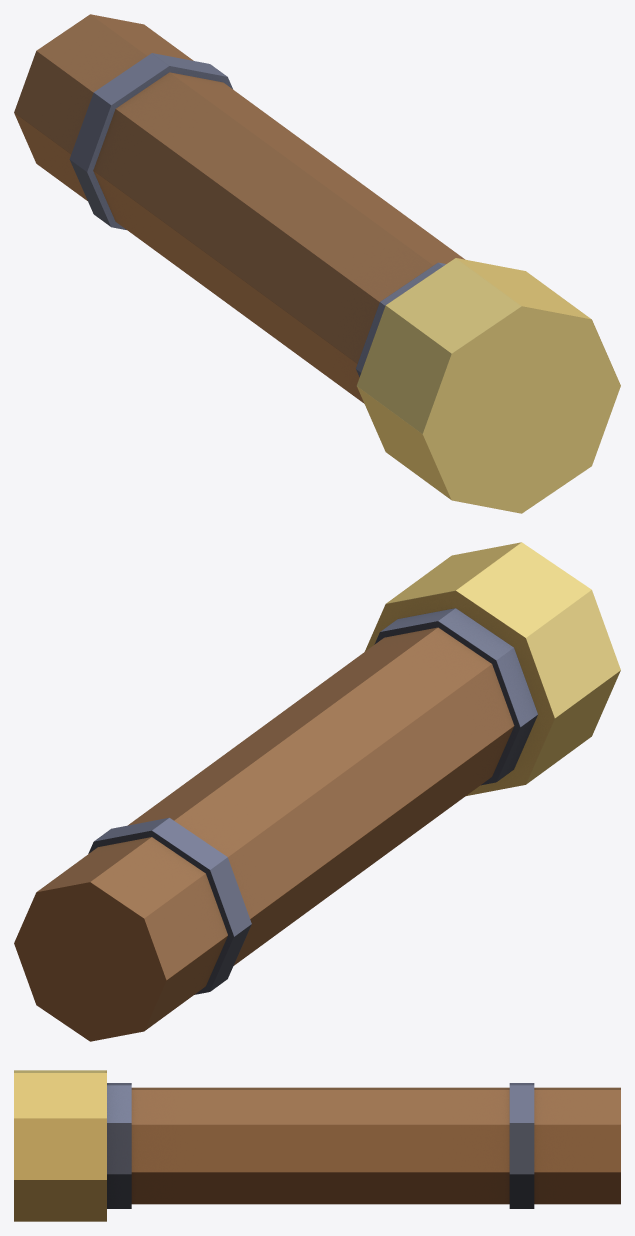
File: kit_guard_ram.fbx
The picture shows the model from 3 angles, top to bottom: view 1: azimuth 30°, elevation 25°; view 2: azimuth 150°, elevation 25°; view 3: azimuth 270°, elevation 25°; orthographic projection. The views are drawn at different scales.
Parts seen in each view (by area): view 1: kit_guard_ram_body; view 2: kit_guard_ram_body; view 3: kit_guard_ram_body.
Part boxes in pixels (x1,y1,x2,y2): kit_guard_ram_body: (14, 14, 620, 513); kit_guard_ram_body: (14, 542, 620, 1041); kit_guard_ram_body: (14, 1070, 620, 1221).
Size of the model in its own units: 650 by 650 by 2450.
1 material, 1 textured.
